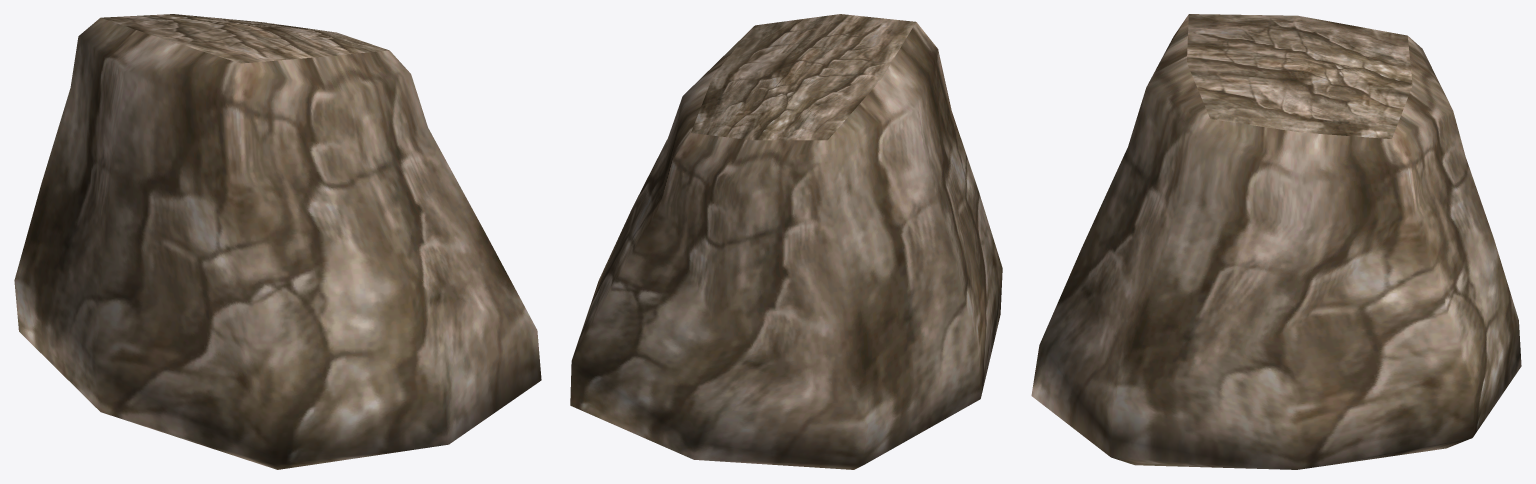
The model's file is INST_EKH_ROCKENTA.fbx.
The picture shows the model from 3 angles, left to right: view 1: azimuth 30°, elevation 25°; view 2: azimuth 150°, elevation 25°; view 3: azimuth 270°, elevation 25°; orthographic projection. The views are drawn at different scales.
Visible parts, largest first — view 1: INST_EKH_ROCKENTA; view 2: INST_EKH_ROCKENTA; view 3: INST_EKH_ROCKENTA.
Boxes of the visible parts, bbox=[...] form: INST_EKH_ROCKENTA: bbox=[14, 14, 541, 469]; INST_EKH_ROCKENTA: bbox=[570, 14, 1002, 469]; INST_EKH_ROCKENTA: bbox=[1031, 14, 1521, 469].
Size of the model in its own units: 22366 by 20746 by 26064.
1 material, 1 textured.
